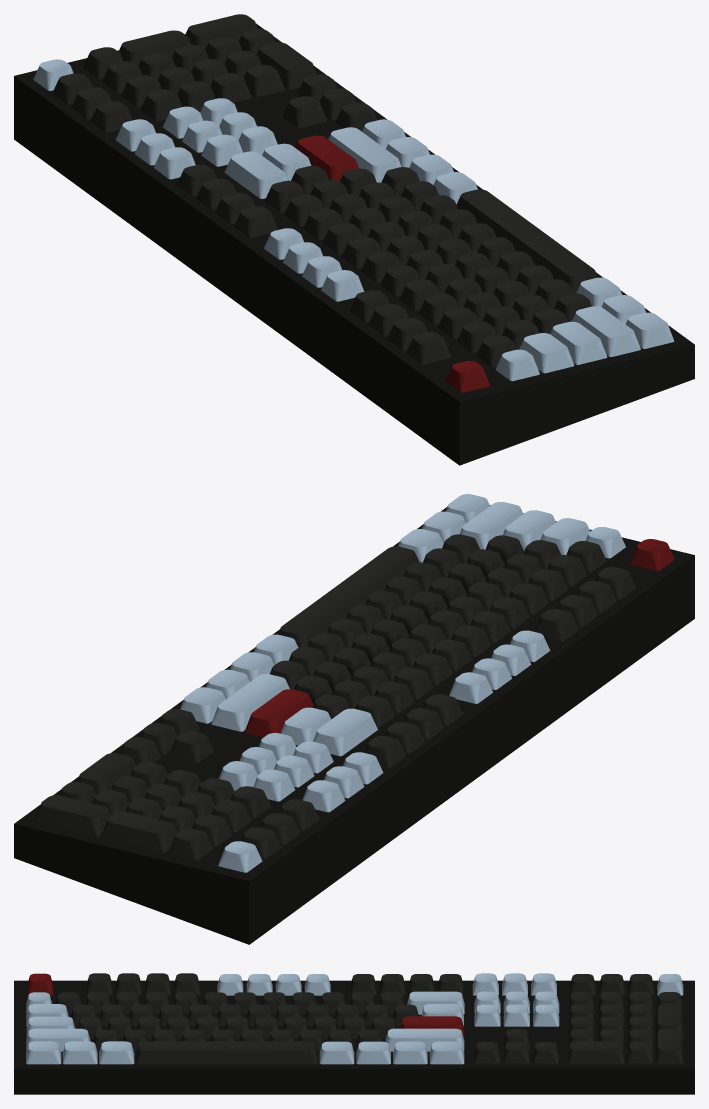
3 views of the same model, one above another, from view 1: azimuth 30°, elevation 25°; view 2: azimuth 150°, elevation 25°; view 3: azimuth 270°, elevation 25° (orthographic). The views are drawn at different scales.
Parts seen in each view (by area): view 1: KB_Base, KB_Key.006, KB_Key.009, KB_Key.011, KB_Key.012, KB_Key.019, KB_Key.008, KB_Key.023, KB_Key.001, KB_Key.003, KB_Key.002, KB_Key.024 (+16 smaller); view 2: KB_Base, KB_Key.006, KB_Key.009, KB_Key.011, KB_Key.012, KB_Key.019, KB_Key.008, KB_Key.023, KB_Key.015, KB_Key.024, KB_Key.001, KB_Key.005 (+16 smaller); view 3: KB_Base, KB_Key.006, KB_Key.011, KB_Key.023, KB_Key.012, KB_Key.009, KB_Key.024, KB_Key.019, KB_Key.008, KB_Key.022, KB_Key.001, KB_Key.002 (+17 smaller).
Boxes of the visible parts, x1,y1,x2,y2 form: KB_Base: (14,23,694,465); KB_Key.006: (265,180,539,381); KB_Key.009: (102,37,284,121); KB_Key.011: (291,166,539,349); KB_Key.012: (339,168,567,333); KB_Key.019: (381,167,591,321); KB_Key.008: (163,98,277,166); KB_Key.023: (456,189,597,293); KB_Key.001: (349,290,451,364); KB_Key.003: (177,164,277,237); KB_Key.002: (264,228,364,301); KB_Key.024: (362,119,477,204); KB_Base: (14,505,694,944); KB_Key.006: (355,527,625,727); KB_Key.009: (92,762,270,846); KB_Key.011: (312,540,561,719); KB_Key.012: (294,535,524,704); KB_Key.019: (270,534,480,689); KB_Key.008: (219,733,333,801); KB_Key.023: (278,546,419,647); KB_Key.015: (34,795,177,852); KB_Key.024: (180,634,298,723); KB_Key.001: (535,567,636,641); KB_Key.005: (218,799,319,872); KB_Base: (14,980,694,1094); KB_Key.006: (26,992,404,1013); KB_Key.011: (70,1004,418,1026); KB_Key.023: (136,1041,317,1063); KB_Key.012: (78,1017,396,1038); KB_Key.009: (568,992,653,1050); KB_Key.024: (319,1041,464,1064); KB_Key.019: (92,1029,382,1051); KB_Key.008: (474,991,559,1026); KB_Key.022: (26,1041,134,1064); KB_Key.001: (86,973,199,995); KB_Key.002: (217,974,330,995).
Size of the model in its own units: 0.7846 by 0.2548 by 2.57.
